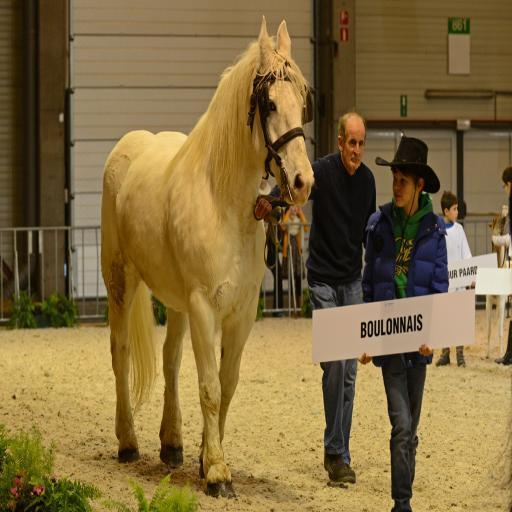horse: (98, 13, 318, 500)
